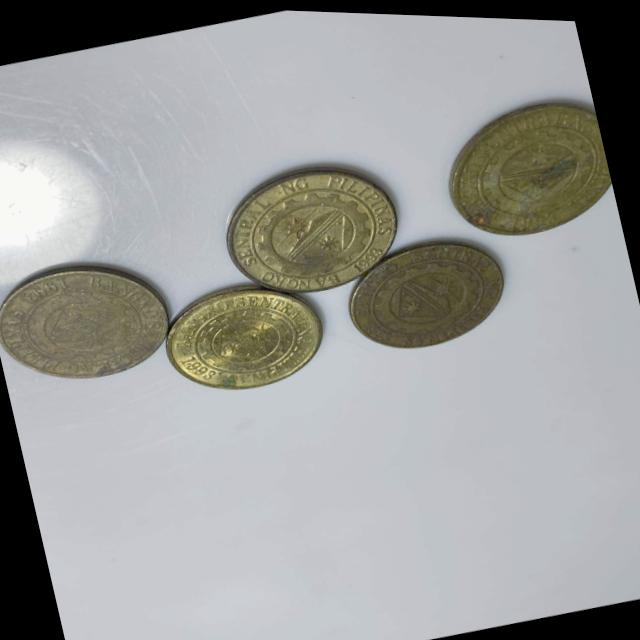25Cent_Old_Back: (220, 142, 412, 305), (442, 92, 616, 246), (0, 251, 166, 395), (340, 227, 516, 359), (167, 273, 326, 401)
